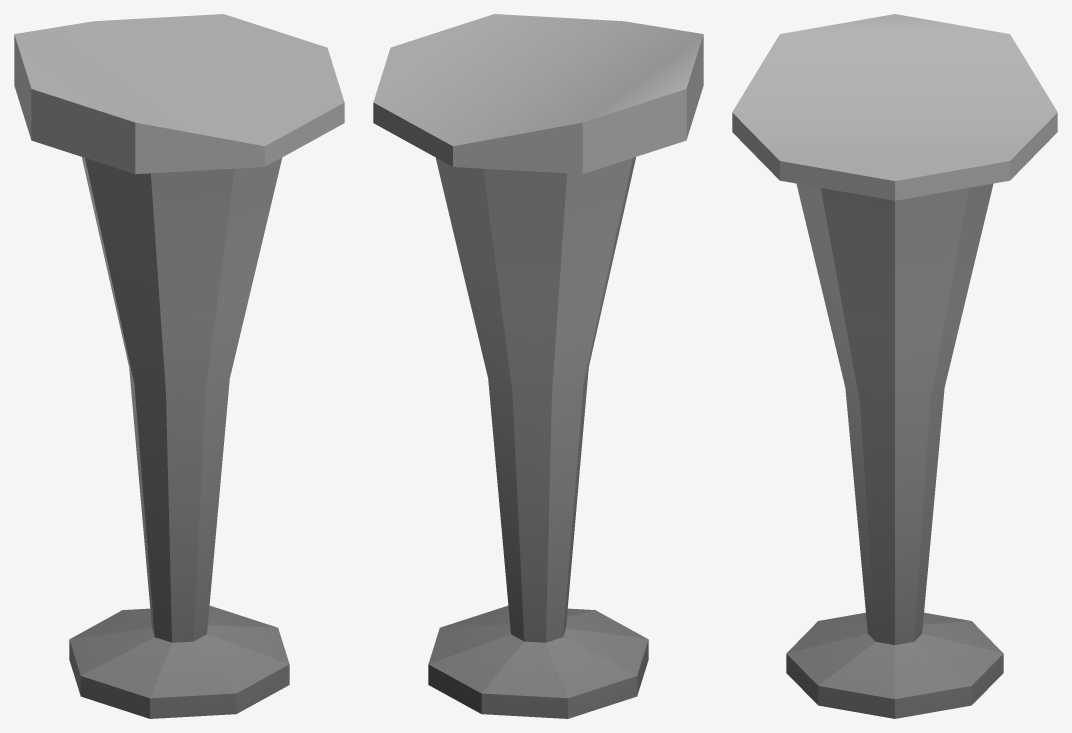
Rendered from Stool.fbx.
The picture shows the model from 3 angles, left to right: view 1: azimuth 30°, elevation 25°; view 2: azimuth 150°, elevation 25°; view 3: azimuth 270°, elevation 25°; orthographic projection. The views are drawn at different scales.
Parts seen in each view (by area): view 1: Stool; view 2: Stool; view 3: Stool.
Part boxes in pixels (x1=…): Stool: x1=14, y1=14, x2=344, y2=718; Stool: x1=373, y1=14, x2=703, y2=718; Stool: x1=732, y1=14, x2=1057, y2=718.
Size of the model in its own units: 30 by 60 by 30.
